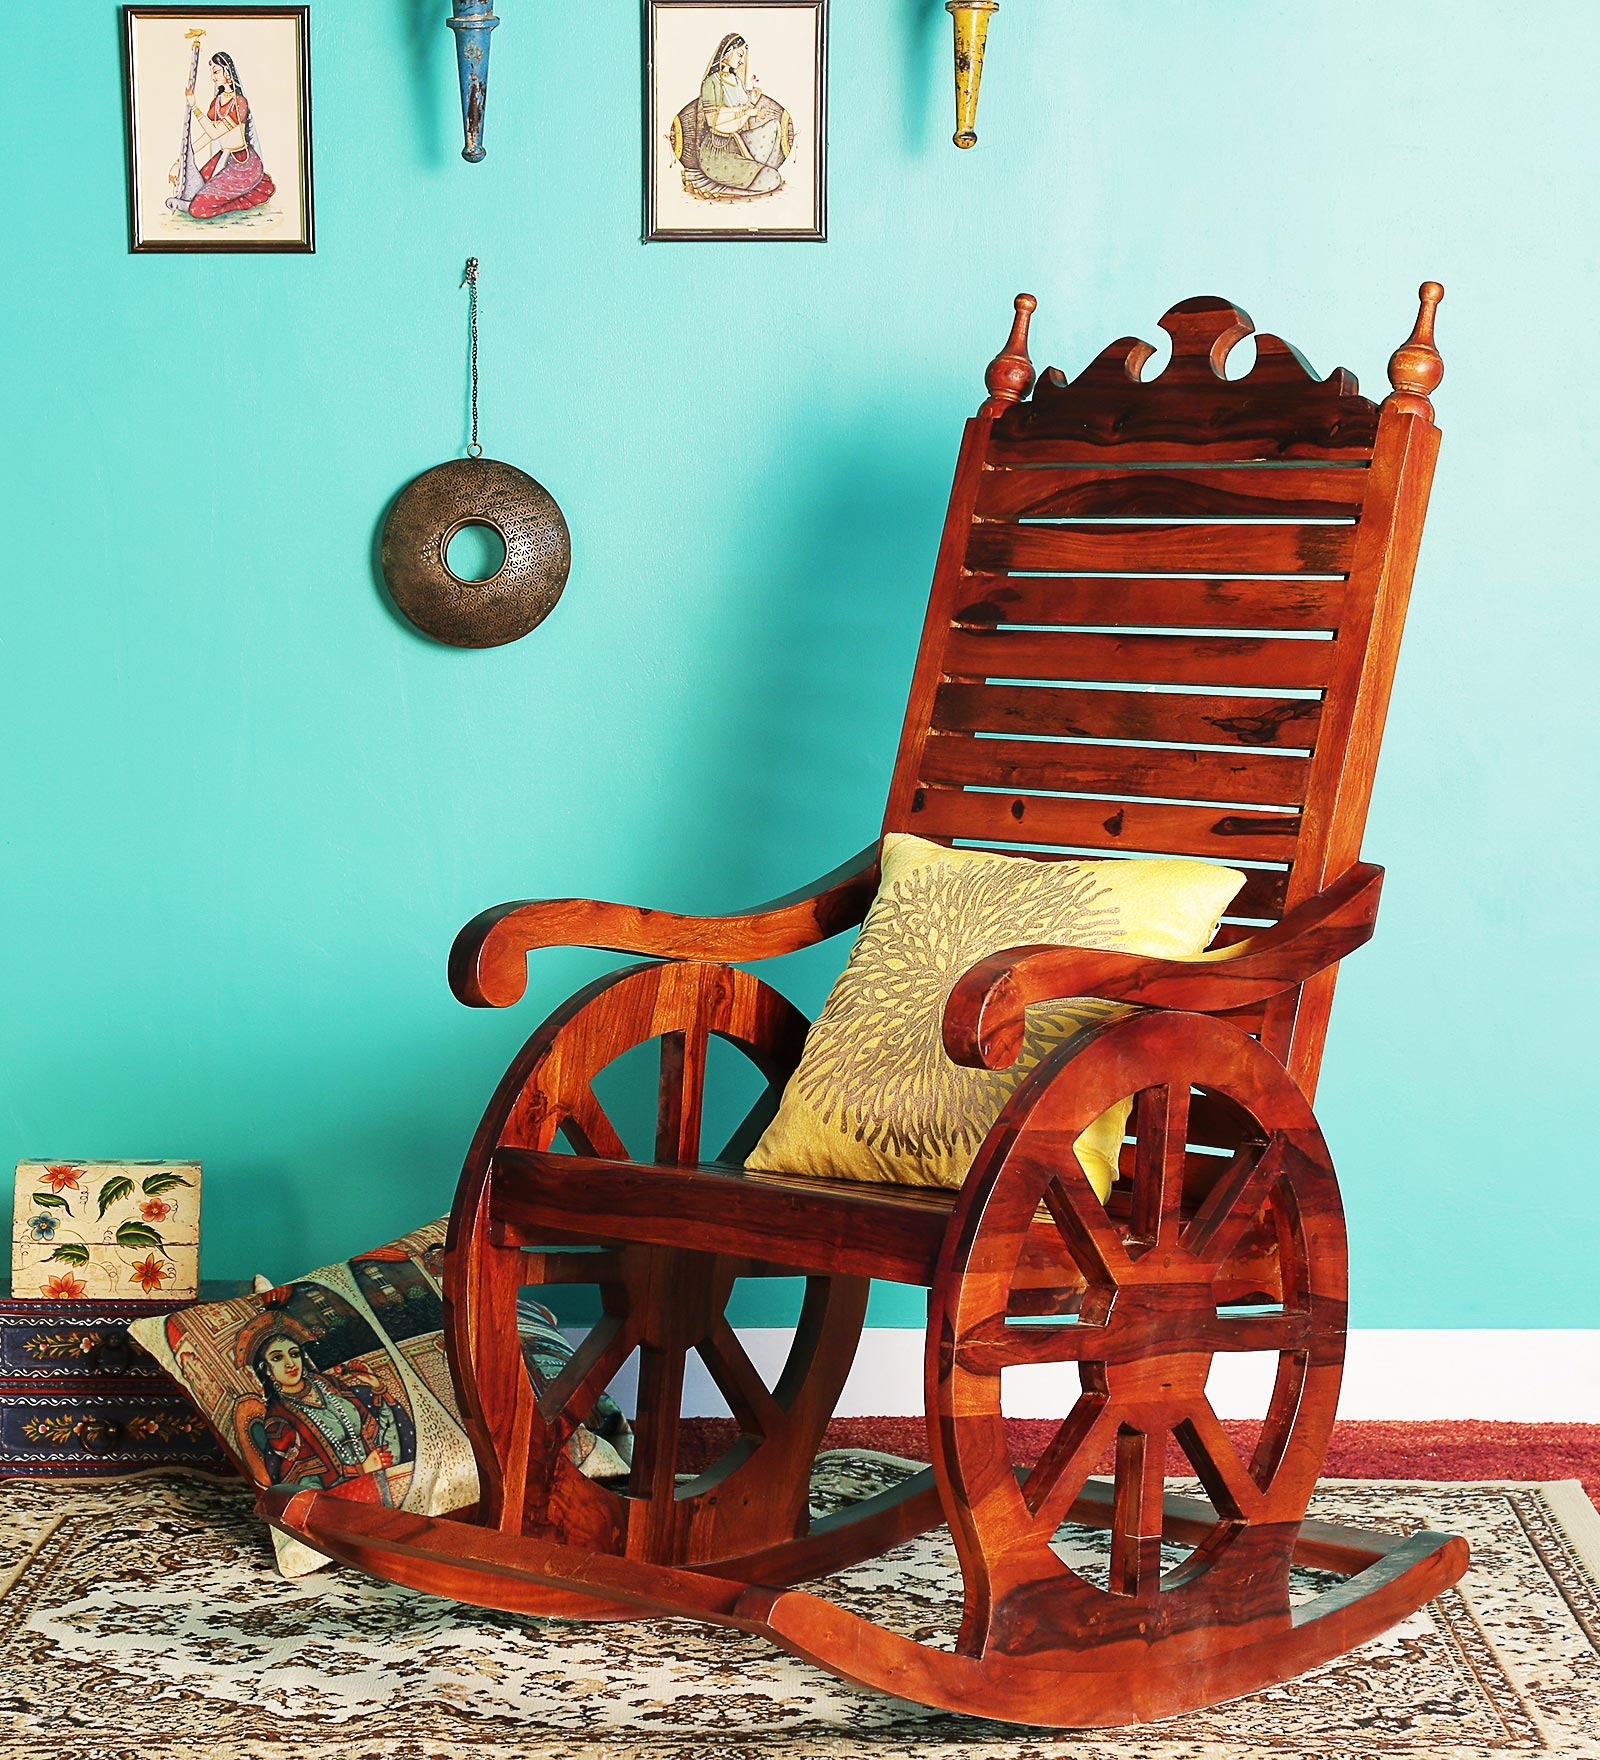Harold Rocking Chair in Honey Oak Finish by Amberville: (395, 293, 1542, 1760)
